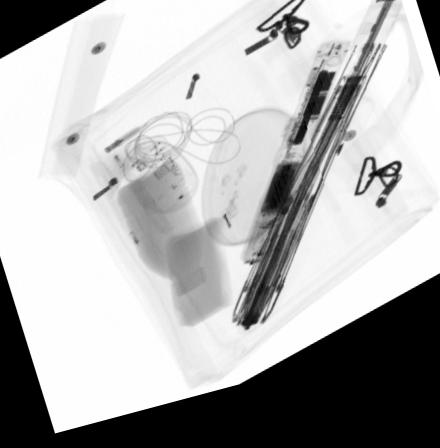Baton: (236, 57, 352, 279)
